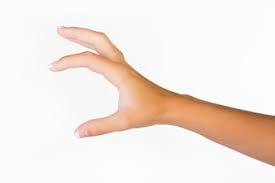hand: (36, 15, 198, 148)
